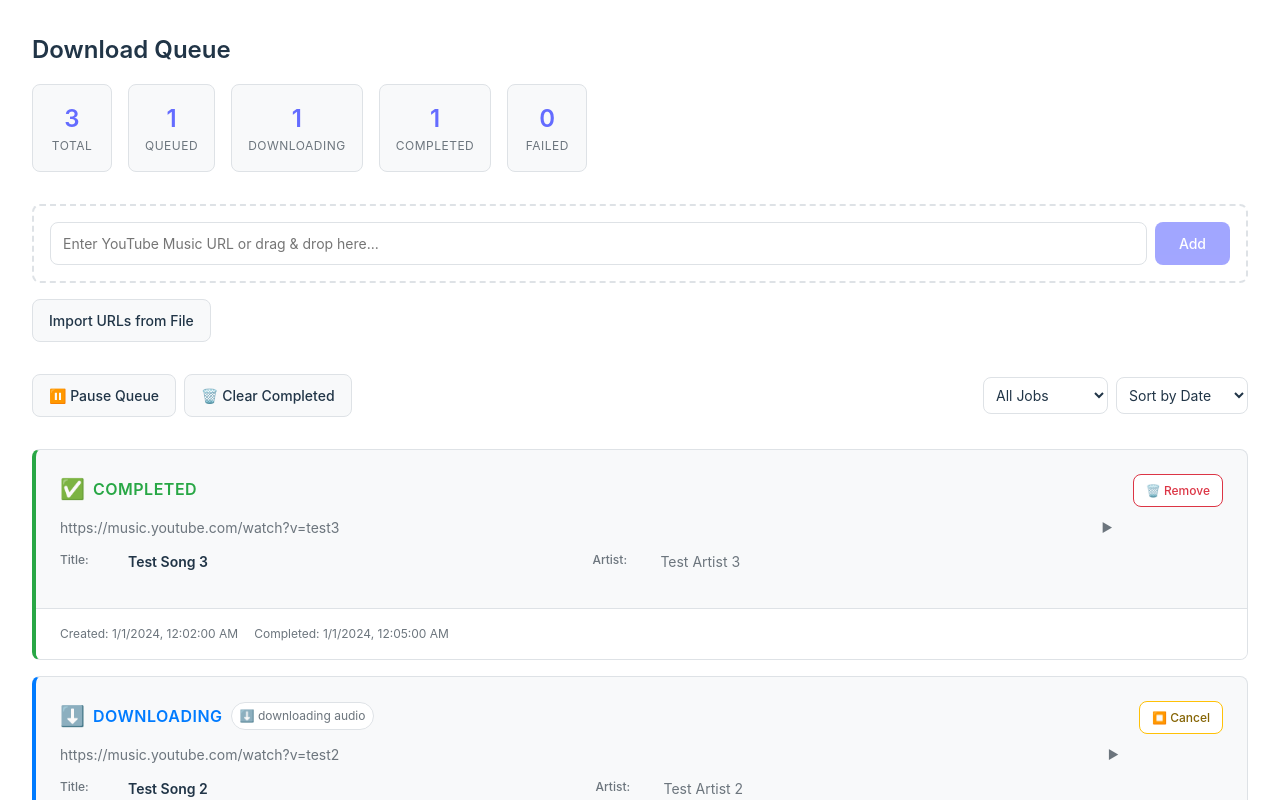
QueueView Component › filters jobs by status
The image size is (1280, 800).
// Filter by completed jobs only
Select "Completed" in the 1st dropdown showing "All Jobs" at (1046, 396), box [983,377,1108,414]
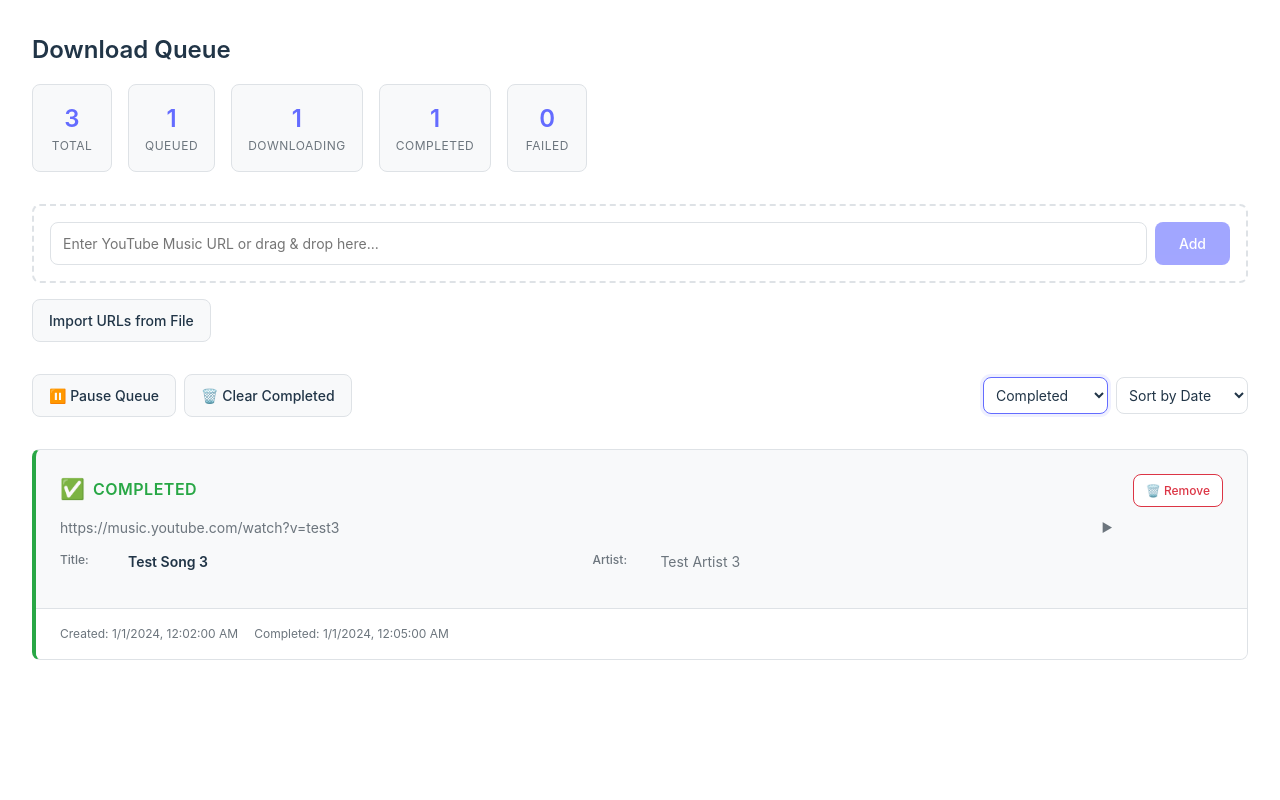
Expected: the text "Test Song 3" is shown, [128,551,208,572]
Now the text "Test Song 2" is gone
